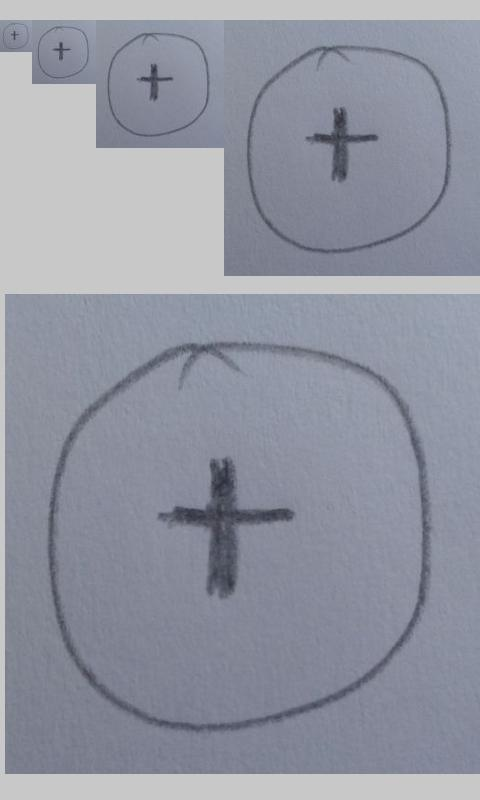button: (46, 339, 435, 735), (246, 44, 452, 255), (106, 32, 210, 138), (37, 26, 89, 79), (2, 22, 29, 50)
